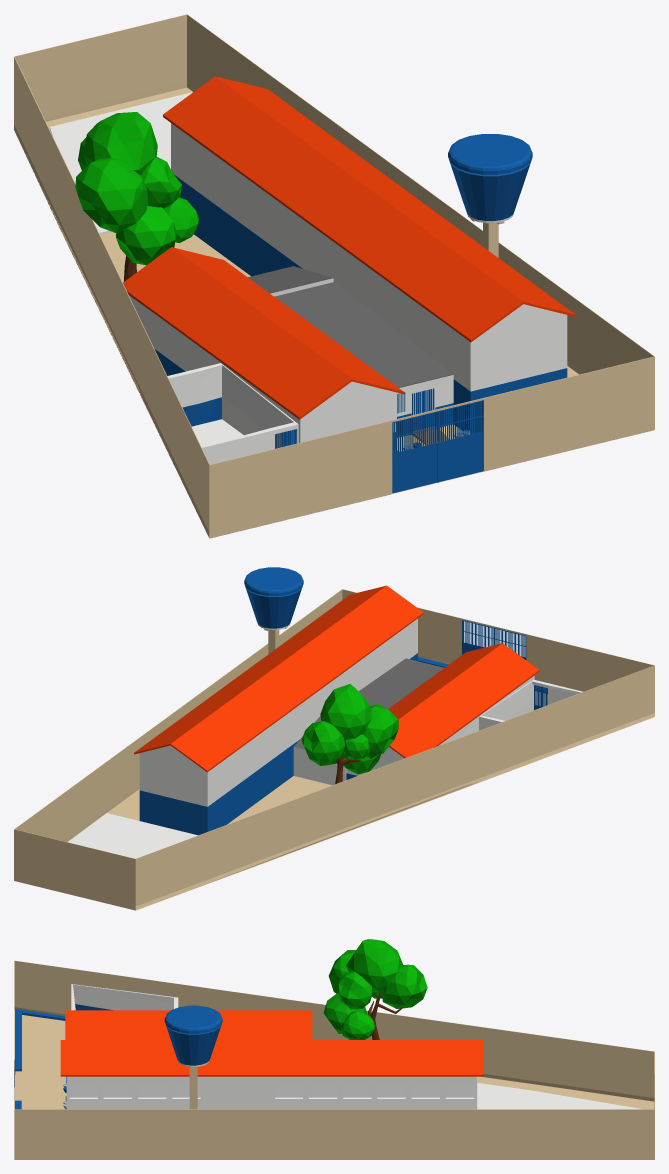
Rendered from escola.glb.
The picture shows the model from 3 angles, top to bottom: view 1: azimuth 30°, elevation 25°; view 2: azimuth 150°, elevation 25°; view 3: azimuth 270°, elevation 25°; orthographic projection. The views are drawn at different scales.
Parts seen in each view (by area): view 1: Cube, Icosphere.010; view 2: Cube, Icosphere.010; view 3: Cube, Icosphere.010, Tree Low Poly.
Boxes of the visible parts, x1=… form: Cube: x1=14, y1=14, x2=654, y2=538; Icosphere.010: x1=75, y1=112, x2=198, y2=265; Cube: x1=14, y1=567, x2=654, y2=910; Icosphere.010: x1=301, y1=683, x2=398, y2=774; Cube: x1=14, y1=960, x2=654, y2=1159; Icosphere.010: x1=323, y1=939, x2=427, y2=1039; Tree Low Poly: x1=368, y1=992, x2=403, y2=1039.
Bounding box in the file's own units: 5.46 × 2.28 × 9.88.
